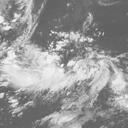cyclone: (26, 41, 99, 99)
